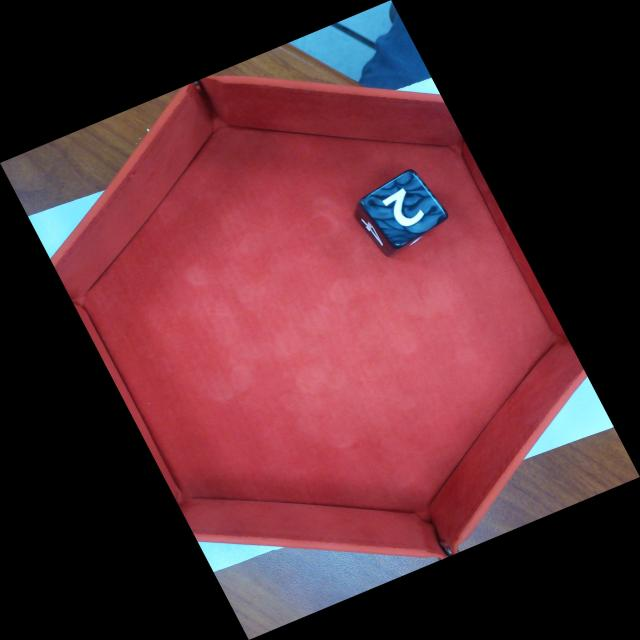dice: (359, 169, 449, 250)
